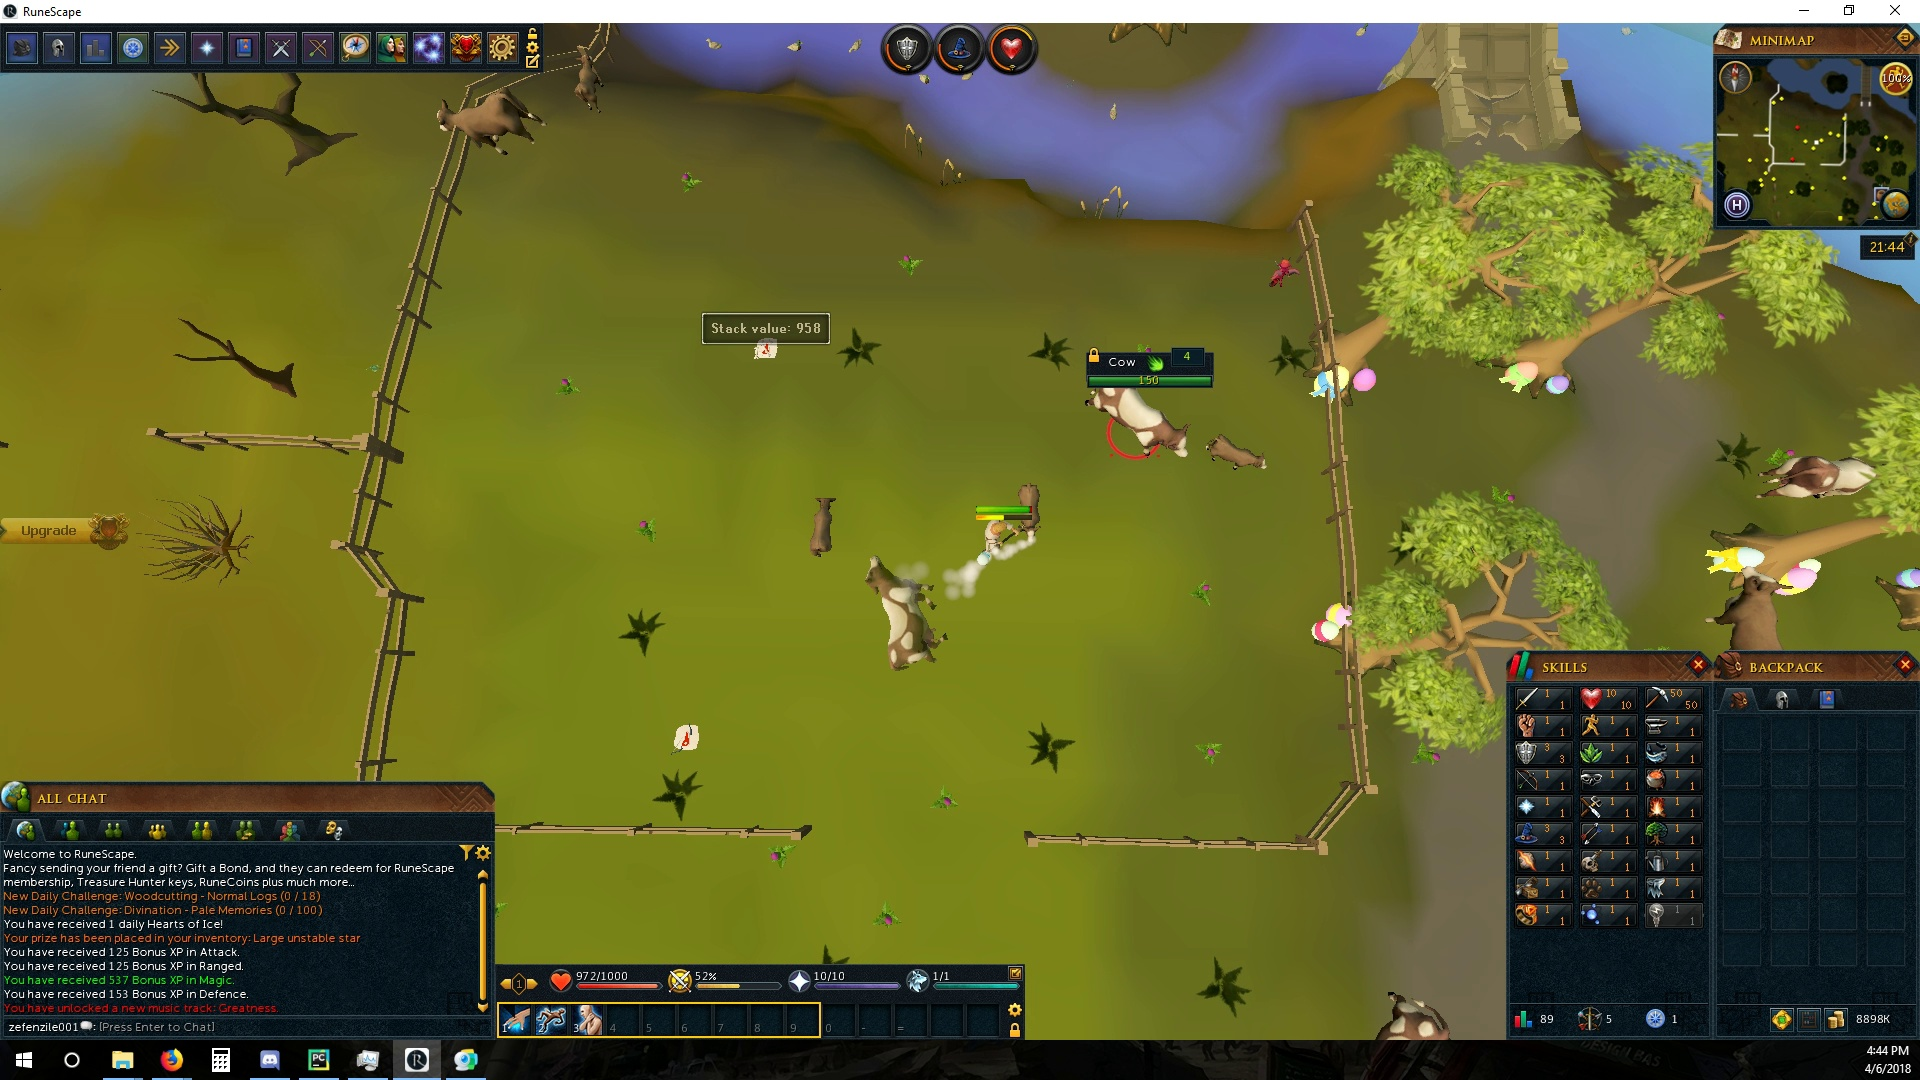calf: (1203, 434, 1276, 476), (810, 491, 837, 559), (1015, 479, 1040, 541)
cow: (860, 553, 949, 674), (433, 84, 553, 161), (1083, 386, 1195, 464), (1698, 560, 1793, 650), (1755, 448, 1882, 508)
cow_drop: (670, 723, 703, 753), (750, 340, 785, 365)
